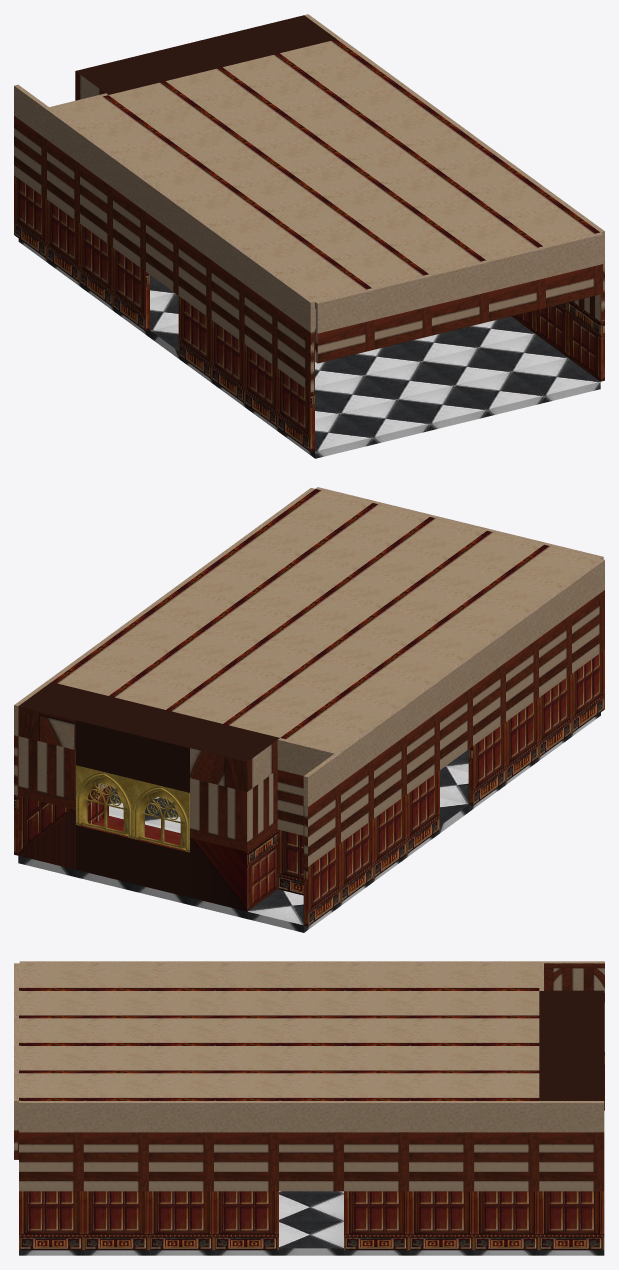
Rendered from DiningRoom.fbx.
3 views of the same model, one above another, from view 1: azimuth 30°, elevation 25°; view 2: azimuth 150°, elevation 25°; view 3: azimuth 270°, elevation 25° (orthographic).
Parts seen in each view (by area): view 1: DiningRoomCeiling, DiningRoomFloorTiles, DiningRoomWallB1Left, DiningRoomWallB2Left, DiningRoomWallB2Front, DiningRoomWallB1Front.001, DiningRoomWallB0Left, DiningRoomWallB0Left.001, DiningRoomWindow, DiningRoomWallB0Right, DiningRoomWallB2Right, DiningRoomWallB1Right; view 2: DiningRoomCeiling, DiningRoomWindow, DiningRoomWallB1Left, DiningRoomWallB2Left, DiningRoomWallB0Left.001, DiningRoomWallB0Left, DiningRoomFloorTiles, DiningRoomWallWindow, DiningRoomWallWindow.001, DiningRoomWallB0Back, DiningRoomWallB1Back, DiningRoomWallB2Right (+2 smaller); view 3: DiningRoomCeiling, DiningRoomWallB1Right, DiningRoomWallB2Right, DiningRoomWallB0Right.001, DiningRoomWallB0Right, DiningRoomFloorTiles, DiningRoomWindow, DiningRoomWallB2Left, DiningRoomWallB2Front.
Boxes of the visible parts, x1=… form: DiningRoomCeiling: x1=52, y1=39, x2=599, y2=302; DiningRoomFloorTiles: x1=18, y1=239, x2=600, y2=458; DiningRoomWallB1Left: x1=14, y1=116, x2=314, y2=392; DiningRoomWallB2Left: x1=14, y1=84, x2=314, y2=332; DiningRoomWallB2Front: x1=315, y1=232, x2=603, y2=333; DiningRoomWallB1Front.001: x1=315, y1=264, x2=603, y2=363; DiningRoomWallB0Left: x1=178, y1=296, x2=314, y2=451; DiningRoomWallB0Left.001: x1=14, y1=175, x2=149, y2=331; DiningRoomWindow: x1=75, y1=15, x2=336, y2=100; DiningRoomWallB0Right: x1=512, y1=301, x2=604, y2=381; DiningRoomWallB2Right: x1=304, y1=14, x2=604, y2=261; DiningRoomWallB1Right: x1=573, y1=261, x2=604, y2=321; DiningRoomCeiling: x1=51, y1=489, x2=600, y2=751; DiningRoomWindow: x1=18, y1=682, x2=279, y2=911; DiningRoomWallB1Left: x1=303, y1=590, x2=604, y2=866; DiningRoomWallB2Left: x1=303, y1=559, x2=604, y2=806; DiningRoomWallB0Left.001: x1=303, y1=770, x2=439, y2=926; DiningRoomWallB0Left: x1=468, y1=650, x2=604, y2=805; DiningRoomFloorTiles: x1=18, y1=712, x2=600, y2=932; DiningRoomWallWindow: x1=132, y1=779, x2=189, y2=852; DiningRoomWallWindow.001: x1=75, y1=765, x2=132, y2=838; DiningRoomWallB0Back: x1=277, y1=829, x2=303, y2=895; DiningRoomWallB1Back: x1=277, y1=770, x2=303, y2=835; DiningRoomWallB2Right: x1=14, y1=488, x2=314, y2=735; DiningRoomCeiling: x1=19, y1=963, x2=539, y2=1100; DiningRoomWallB1Right: x1=19, y1=1132, x2=604, y2=1191; DiningRoomWallB2Right: x1=19, y1=1101, x2=604, y2=1132; DiningRoomWallB0Right.001: x1=344, y1=1191, x2=604, y2=1250; DiningRoomWallB0Right: x1=19, y1=1191, x2=278, y2=1250; DiningRoomFloorTiles: x1=19, y1=1191, x2=604, y2=1255; DiningRoomWindow: x1=539, y1=990, x2=604, y2=1100; DiningRoomWallB2Left: x1=19, y1=961, x2=604, y2=992; DiningRoomWallB2Front: x1=14, y1=963, x2=18, y2=1130.
Size of the model in its own units: 1030 by 525 by 1817.
